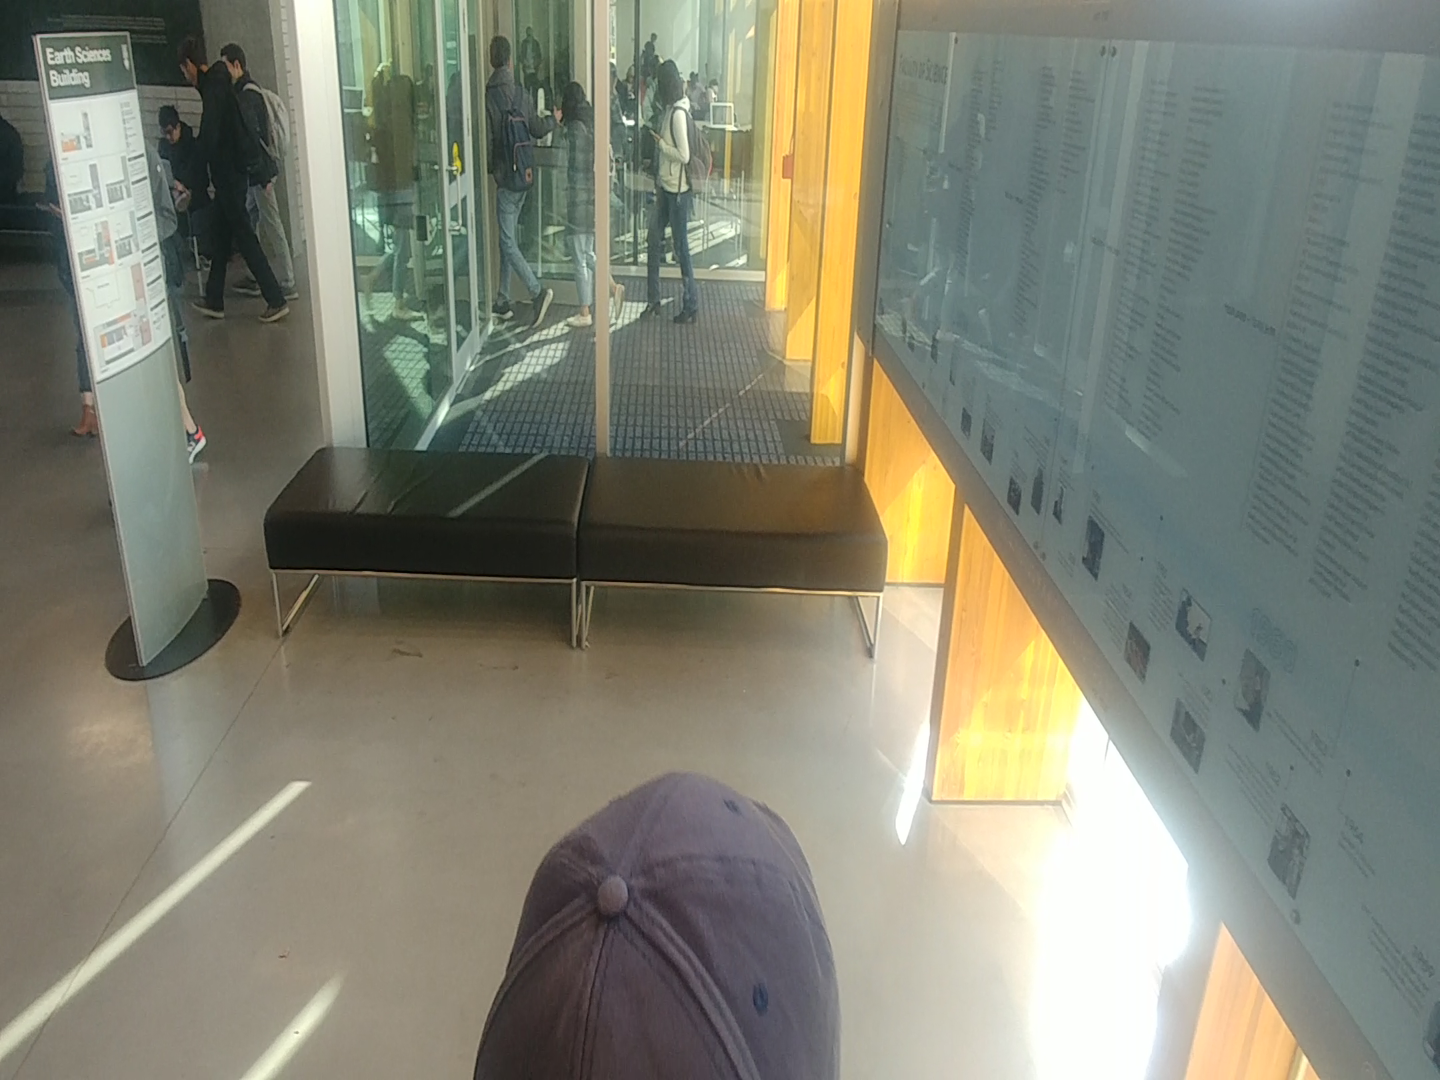face: (162, 33, 221, 95), (638, 55, 692, 112), (473, 25, 530, 78), (144, 96, 194, 150), (548, 75, 592, 118)
human: (171, 36, 294, 326), (470, 32, 557, 333), (637, 54, 718, 324), (544, 73, 607, 334)
